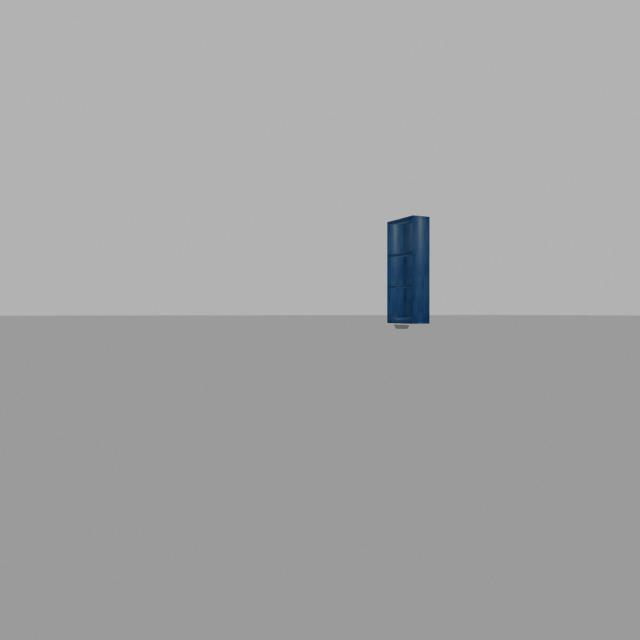bowl: (392, 324, 410, 329)
shelf: (380, 210, 438, 320)
